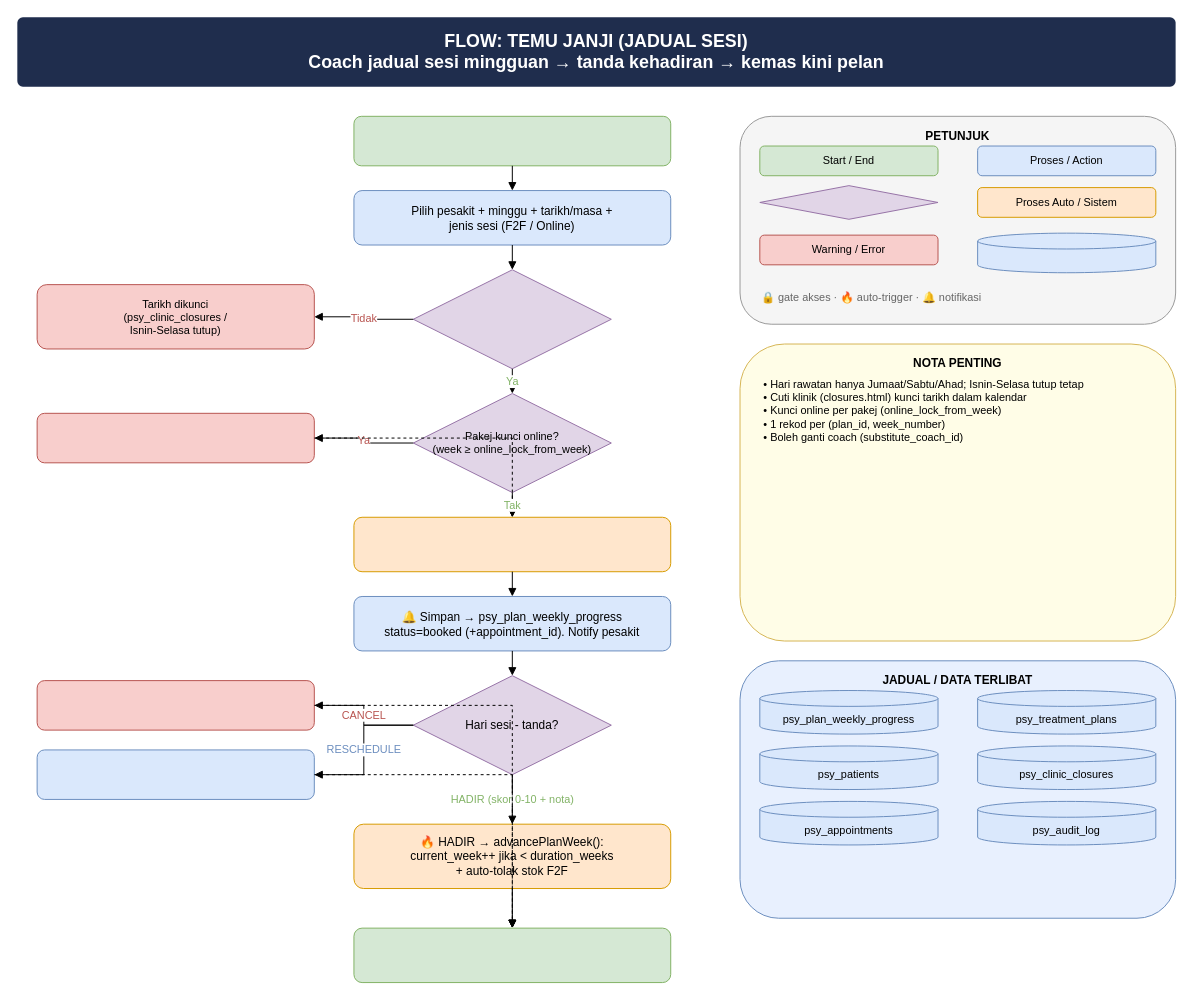
Image size: 1193x1000. Some labels were removed from this diagram. The centre of each missing label's shape, as x and y in pixels:
"CANCEL (no-show)" belongs at pixel 175 705.
"Database" belongs at pixel 1066 252.
"Hari sah? (Jumaat/Sabtu/Ahad, bukan hari cuti)" belongs at pixel 511 319.
"Keputusan / Decision" belongs at pixel 848 202.
"Paksa F2F sahaja" belongs at pixel 175 437.
"RESCHEDULE (tarikh+sebab)" belongs at pixel 175 774.
"Sesi dikemas kini; rekod untuk laporan kehadiran" belongs at pixel 512 955.
"START Coach buka appointments.html" belongs at pixel 512 140.
"🔥 Jika online: auto-jana Google Meet link atau tampal link" belongs at pixel 512 544.
